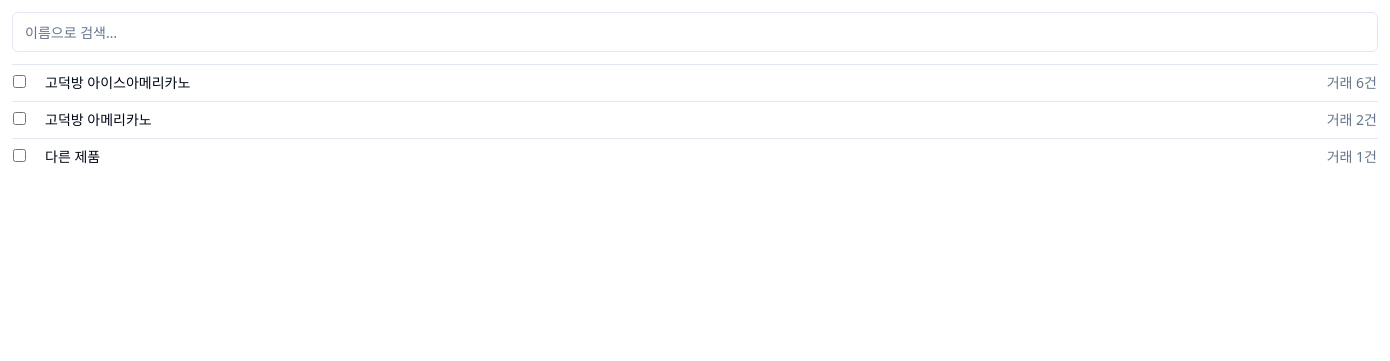
Scenario: ManualMergePanel › 선택 0~1개일 때 병합 버튼 disabled, 2개 + 대표 선택 시 활성화
This screenshot has width=1390, height=361.
Expected: the text "고덕방 아이스아메리카노" is shown, [44, 64, 1028, 102]
Expected: the button "병합" is not shown
What coordinates should you click on to do the following:
click the checkbox named "선택: 고덕방 아이스아메리카노"
I would click on:
 (20, 82)
Its box is [13, 75, 26, 88].
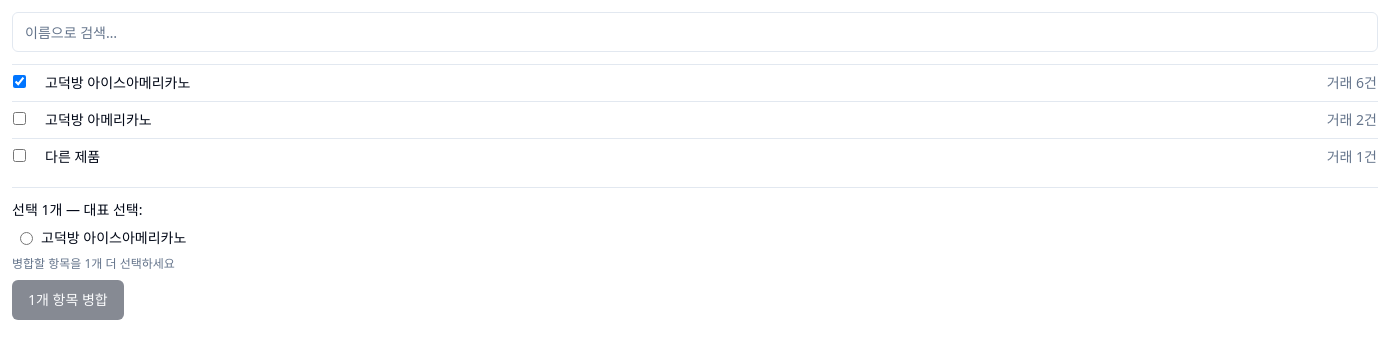
Expected: the text "병합할 항목을 1개 더 선택하세요" is shown, [12, 255, 175, 272]
What coordinates should you click on to do the following:
click the checkbox named "선택: 고덕방 아메리카노"
I would click on:
 (20, 118)
Its box is [13, 112, 26, 125].
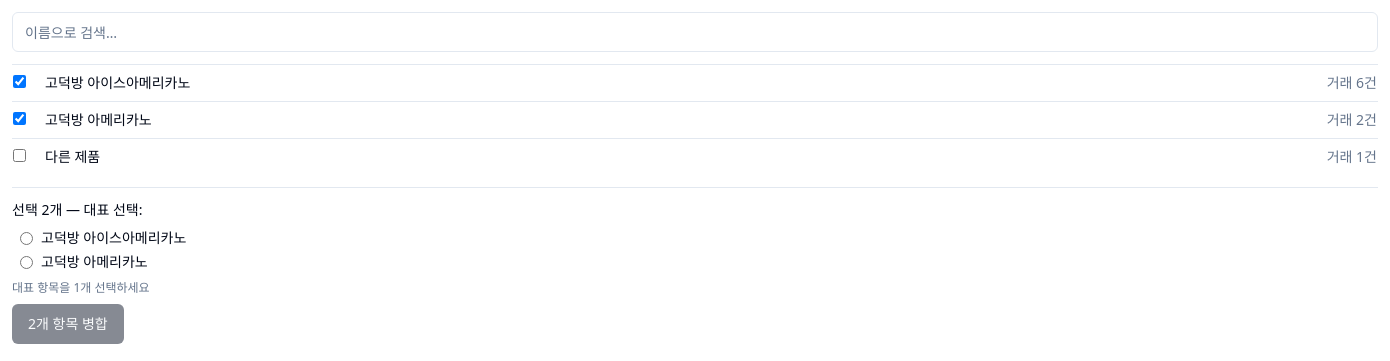
Expected: the text "대표 항목을 1개 선택하세요" is shown, [12, 279, 150, 296]
What coordinates should you click on to do the following:
click the radio button with aria-label "대표: 고덕방 아이스아메리카노"
I would click on:
 (26, 238)
Its box is [20, 232, 33, 244].
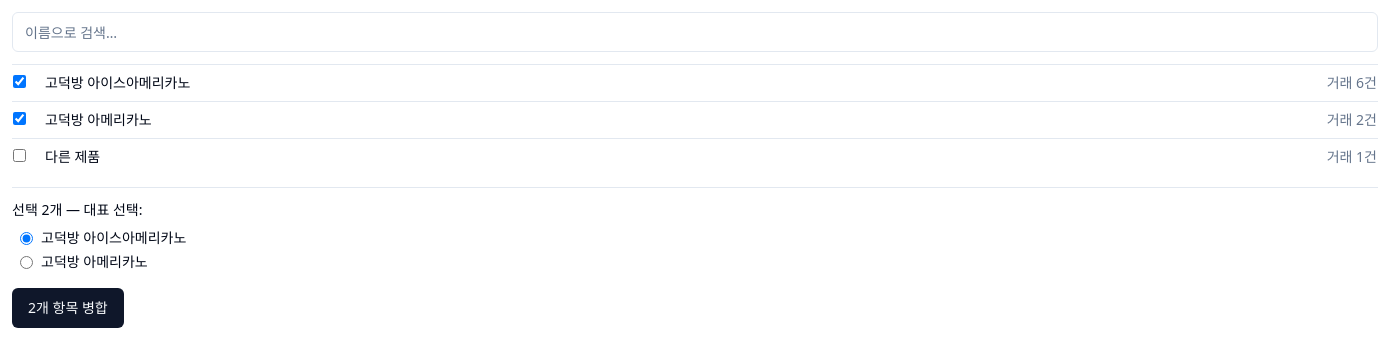
Expected: the button "2개 항목 병합" is enabled, [12, 288, 124, 328]
